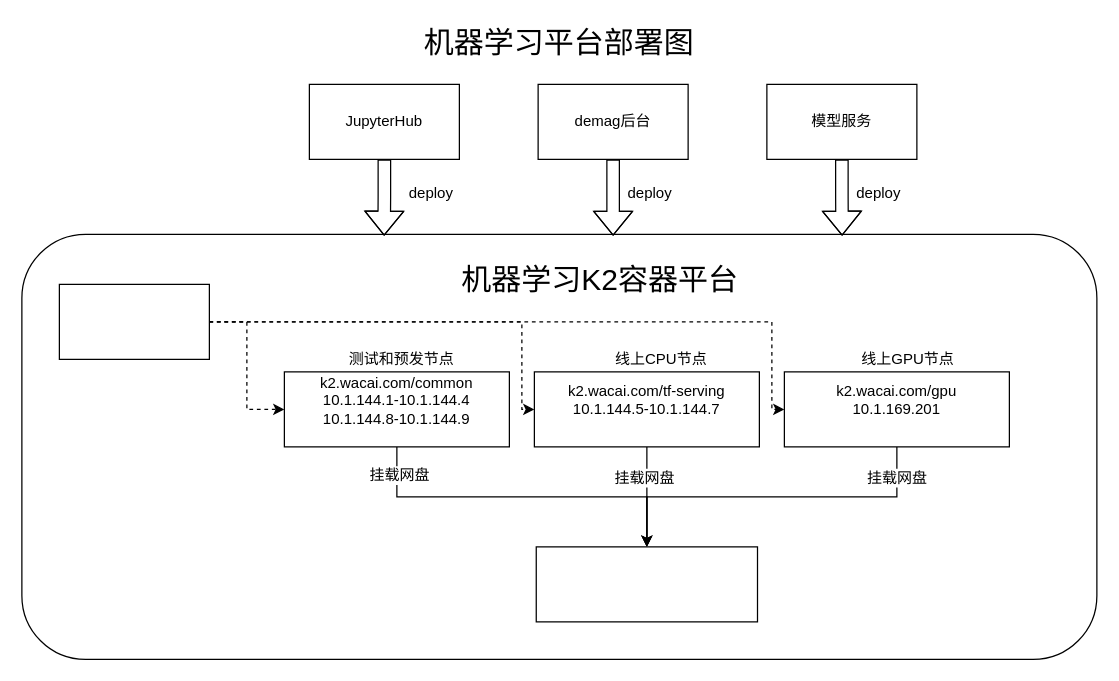
This 1119x681 diagram has some shape labels left out. The shapes that lost their labels are listed below. From the top down, each one's centre as x and y in pixels, then its label:
(133,321): K2容器管理后台 10.1.144.10
(646,584): NAS notebook-models-19t
